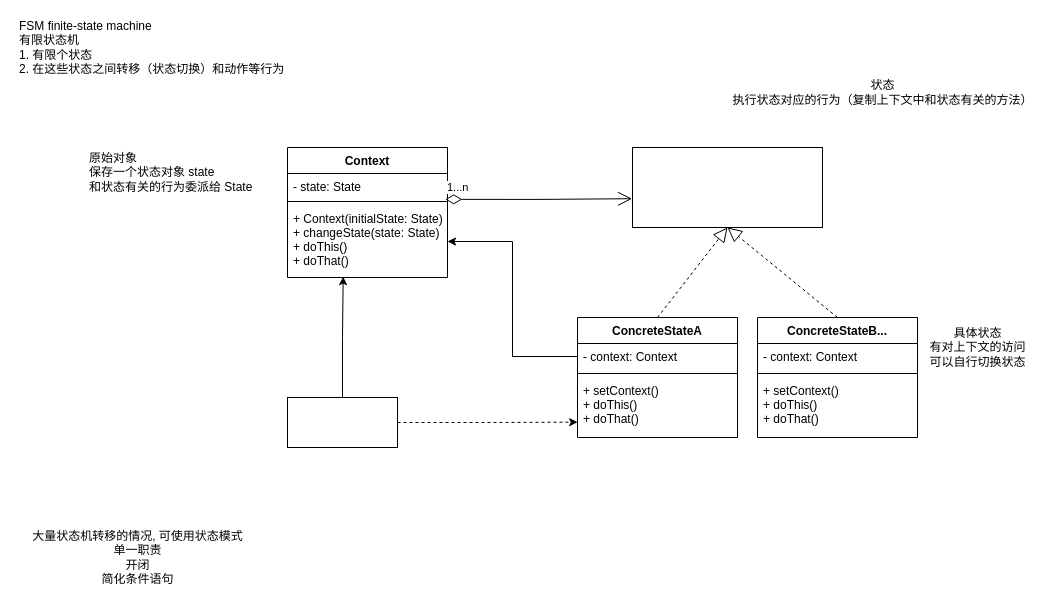
This 1059x604 diagram has some shape labels left out. The centre of each missing label's shape, as x and y in pixels:
"<<Interface>> State + doThis() + doThat()" goes at point 727,187.
"Client" goes at point 342,422.
